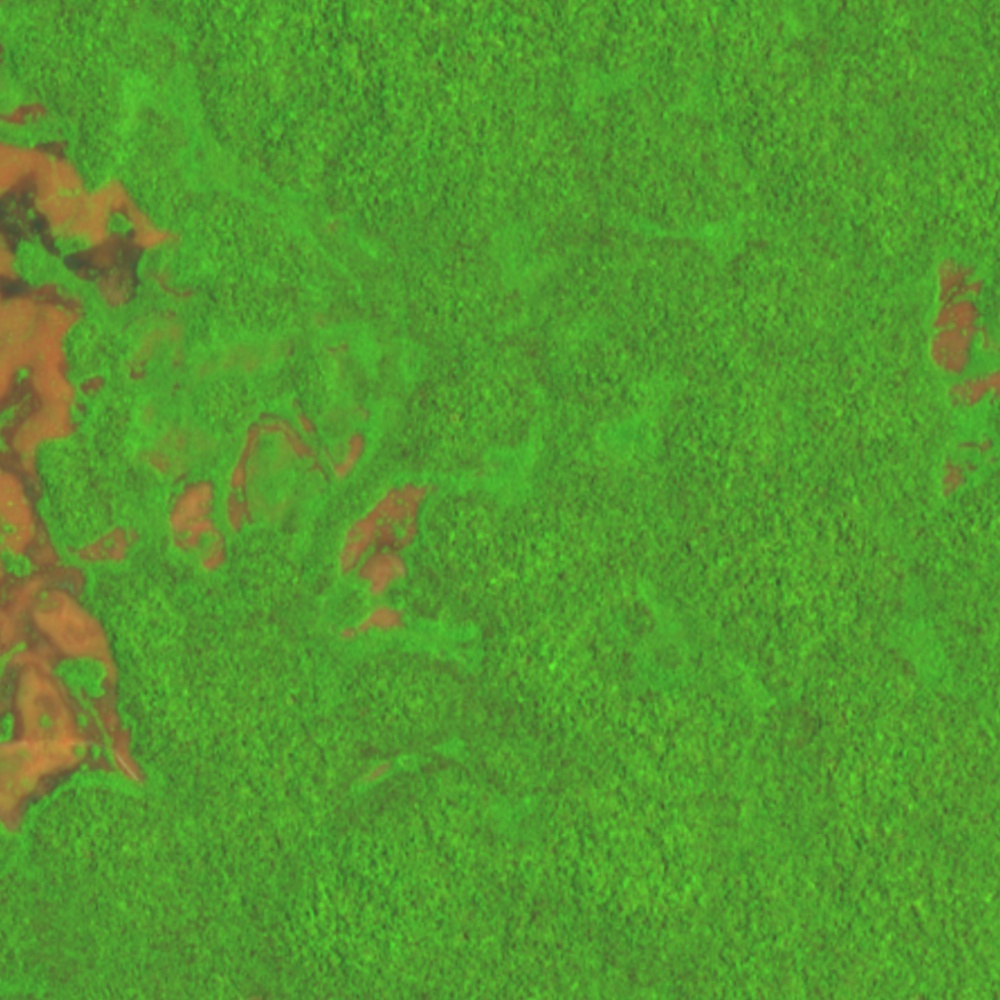legal: (1, 101, 181, 831), (223, 397, 371, 536), (922, 255, 1000, 498), (336, 483, 428, 642), (164, 470, 229, 573), (63, 520, 142, 566), (362, 752, 407, 787)
